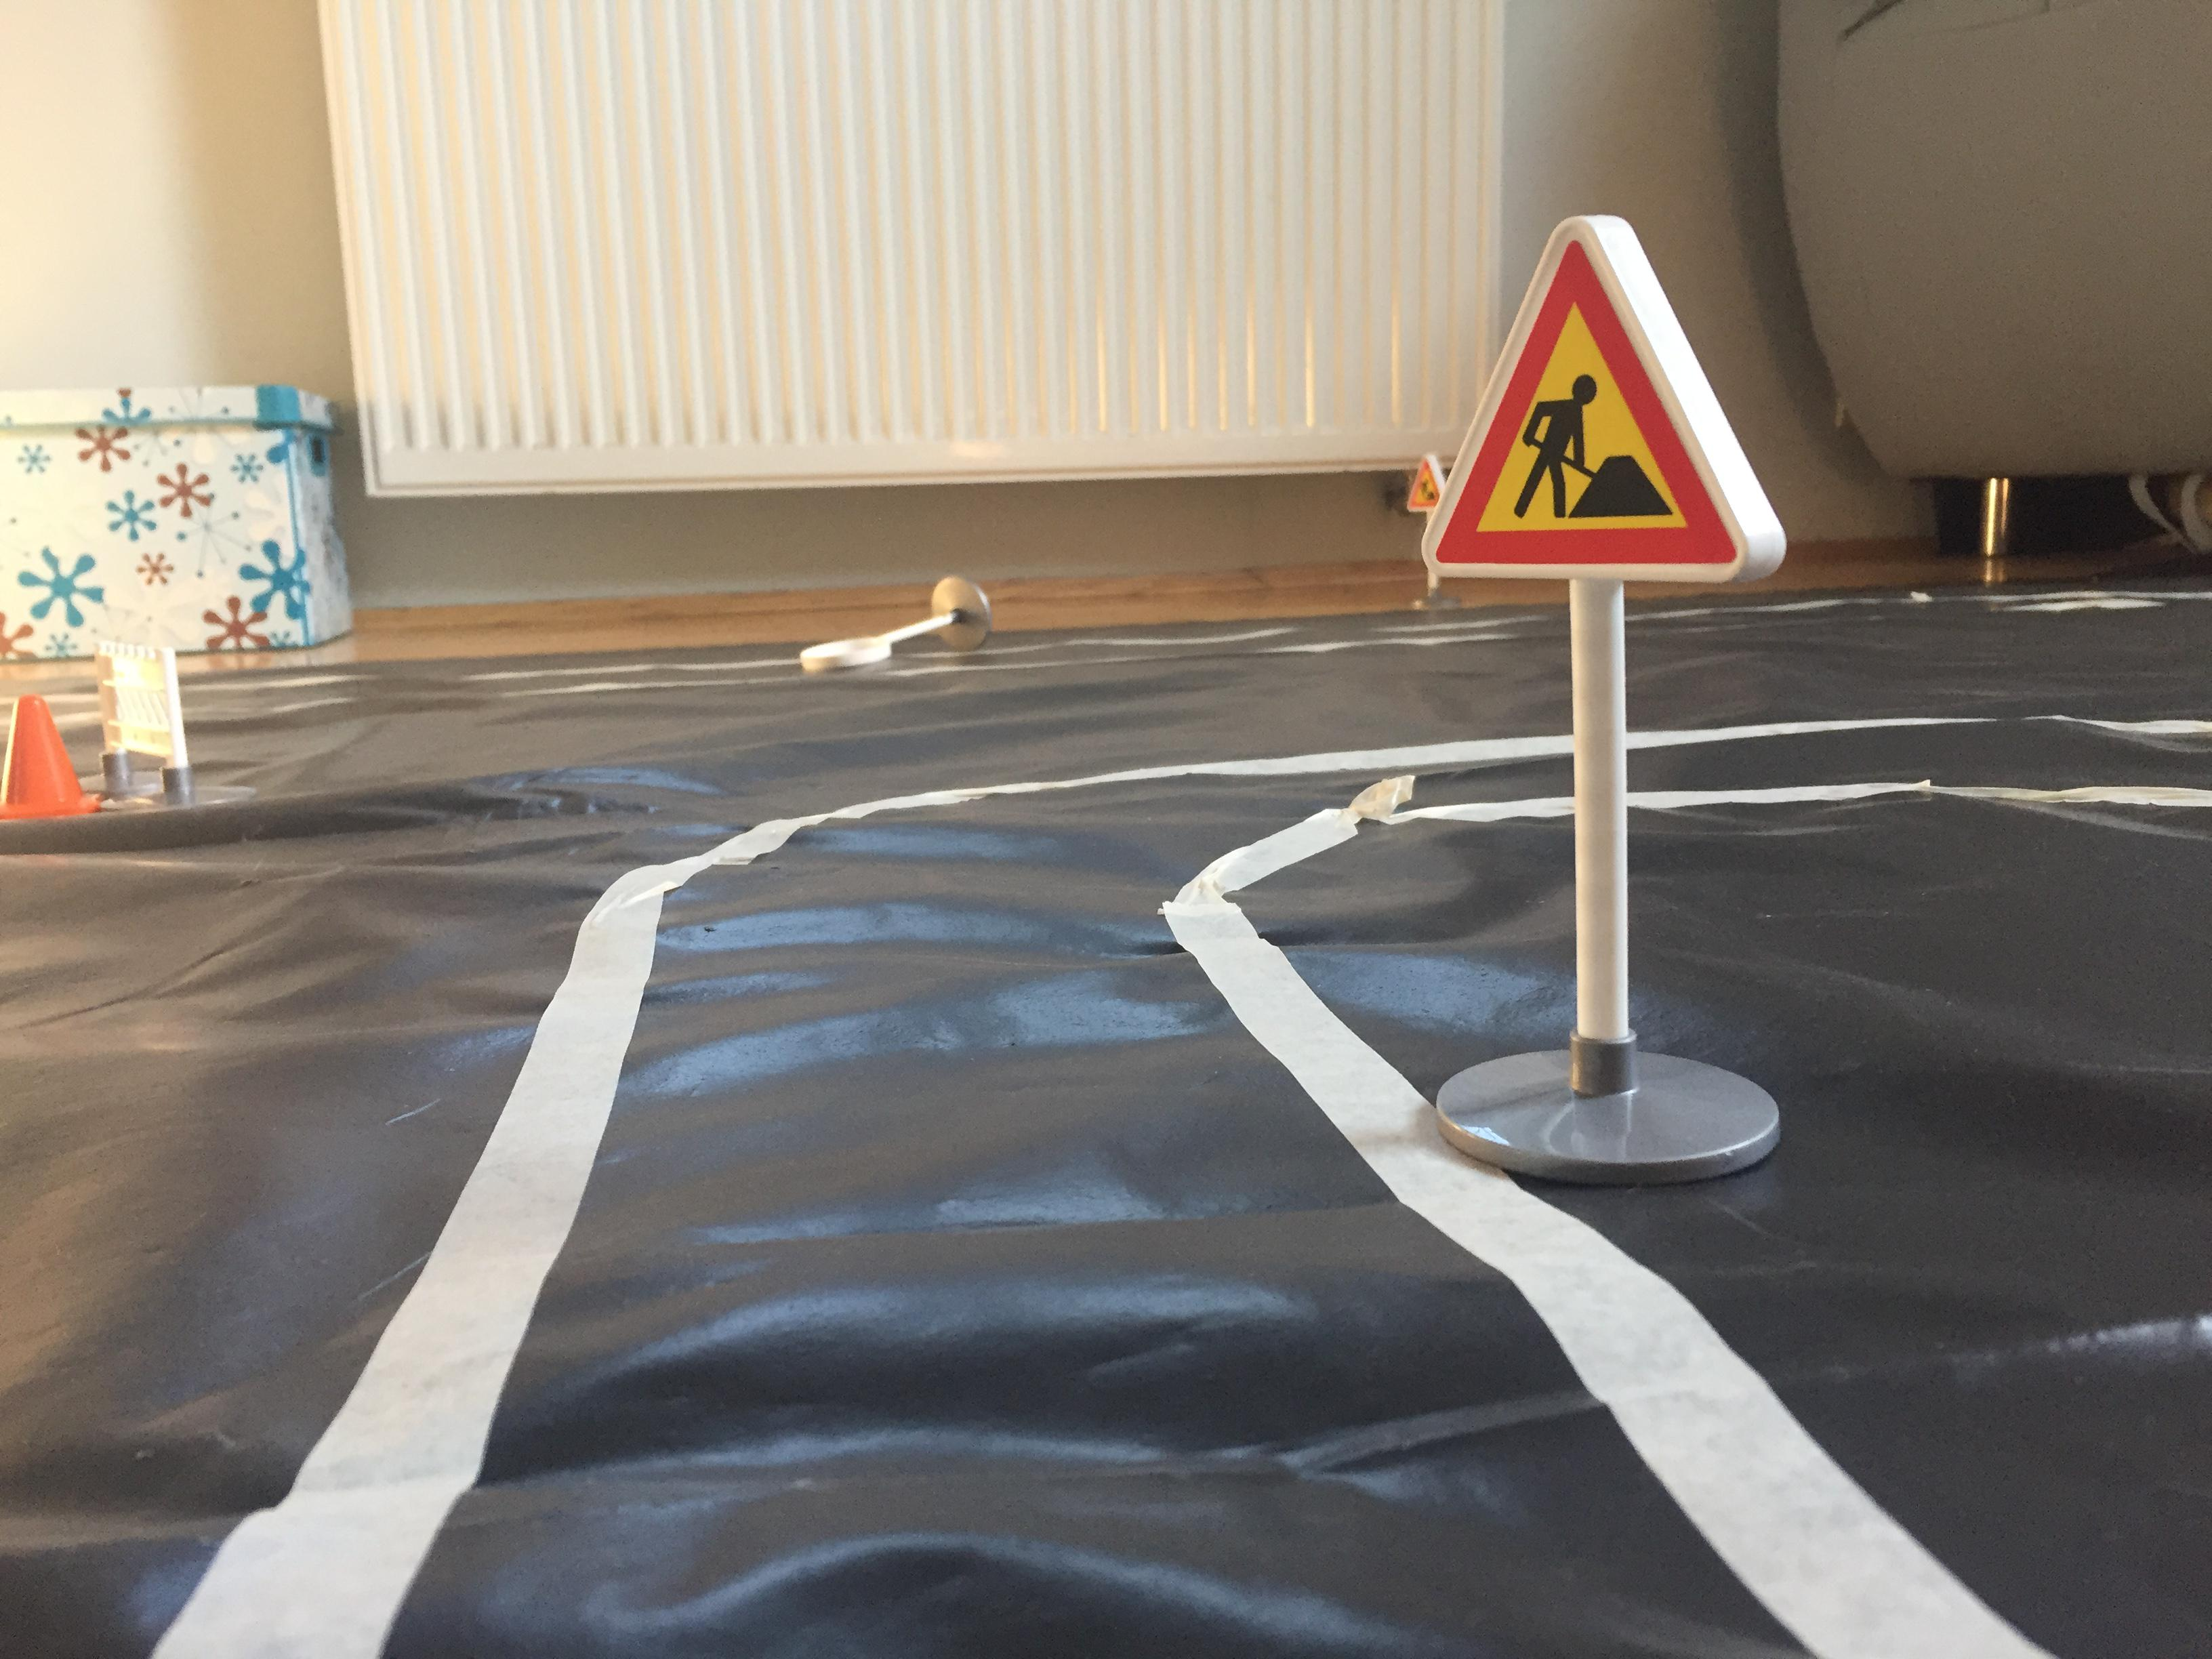work: (1416, 202, 1799, 612)
